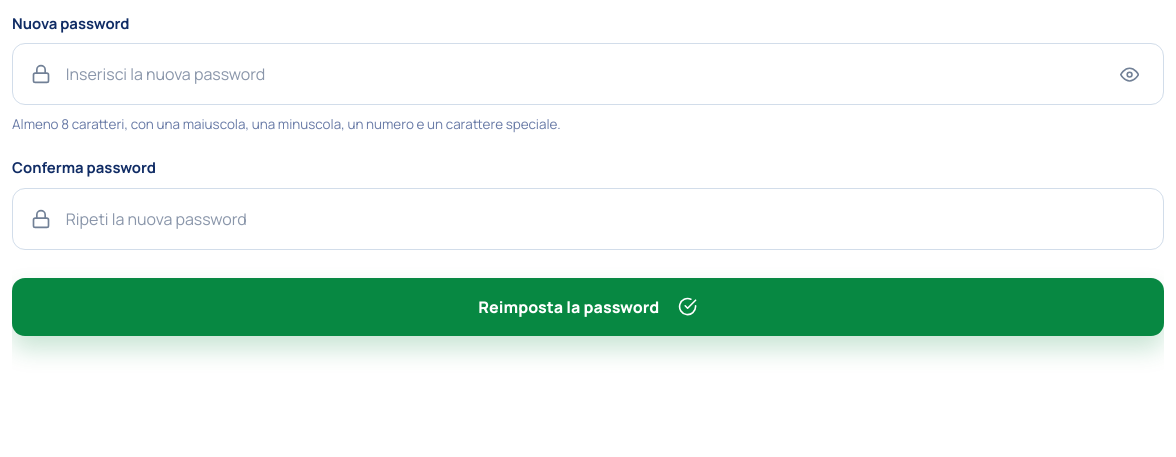
Scenario: ResetPasswordForm › errori del server › tratta un 400 senza validationErrors come token bruciato
The image size is (1176, 457).
Type "Password1!" into the password field labelled "Nuova password". click: point(583, 74)
box: [66, 62, 1100, 86]
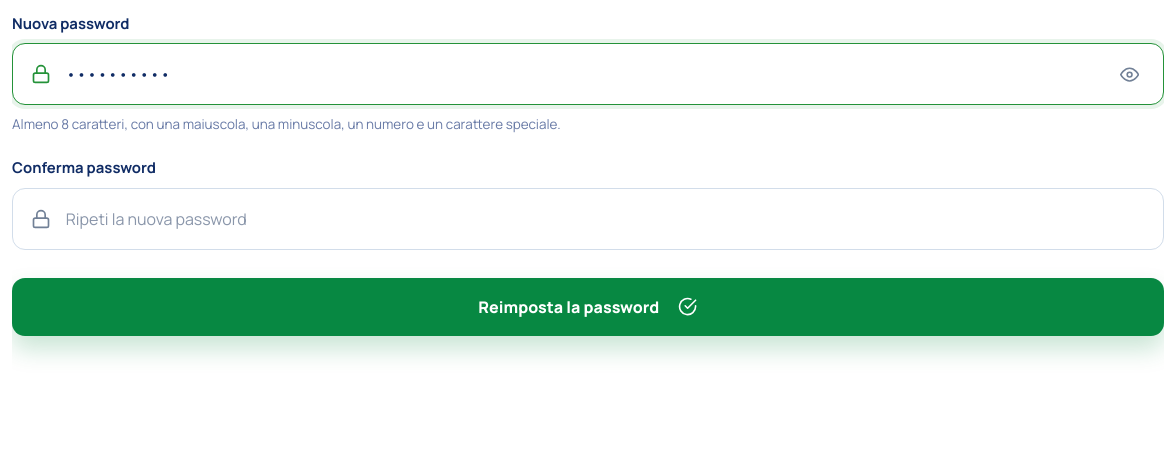
Type "Password1!" into the password field labelled "Conferma password". click: point(605, 219)
box: [66, 207, 1145, 231]
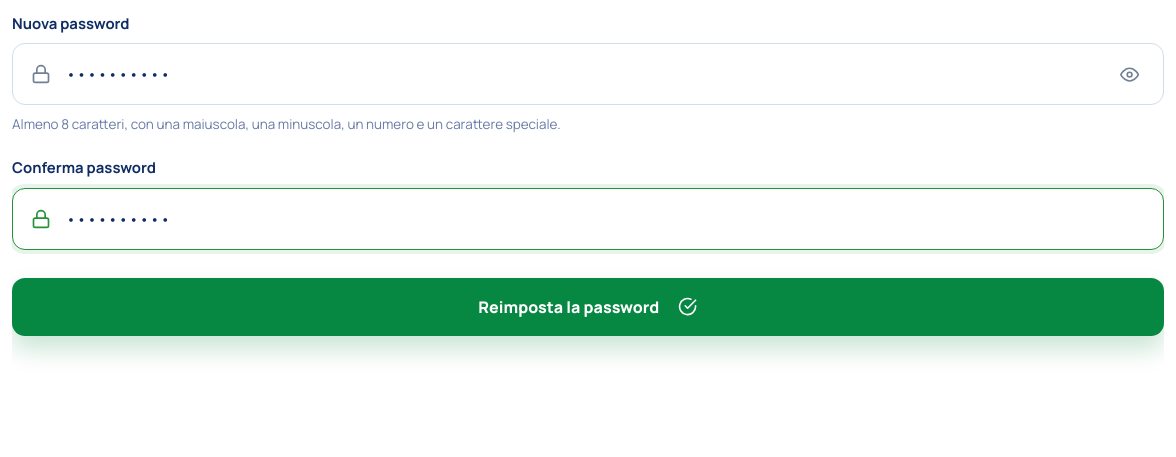
Click the button "Reimposta la password". click: point(588, 306)
box: [12, 278, 1164, 336]
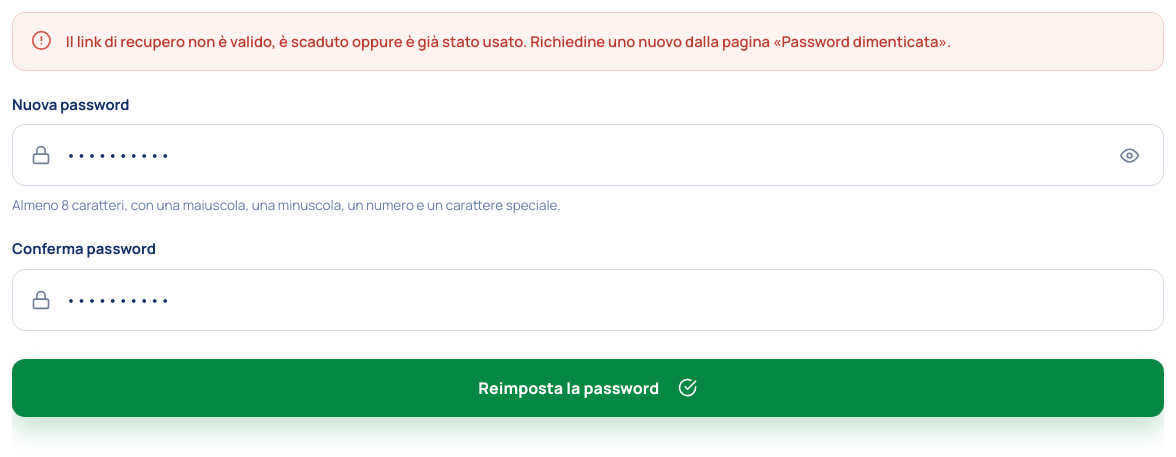
Now the message shows "richiedine uno nuovo", box [66, 31, 951, 51]
